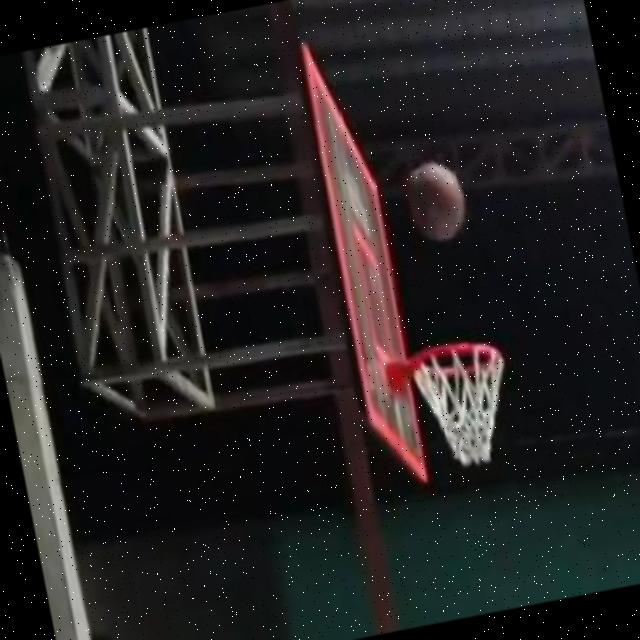ball: (394, 143, 478, 255)
hoop: (408, 332, 508, 388)
